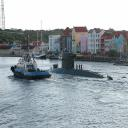submarine: (51, 40, 114, 80)
